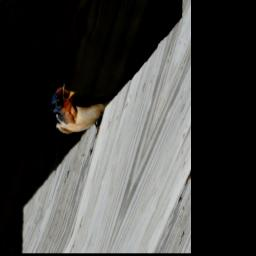Swallow: (41, 71, 111, 150)
